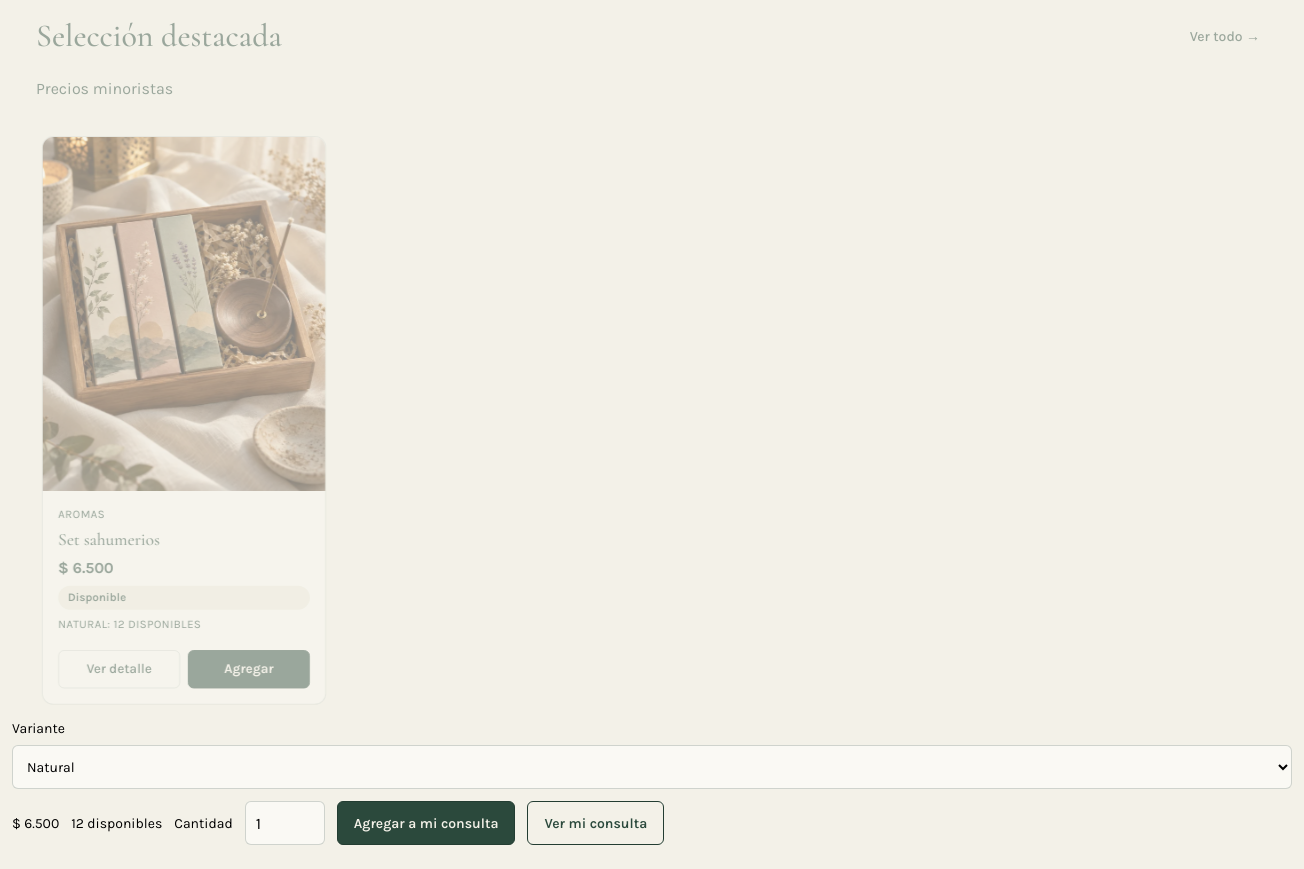
Un almacenamiento corrupto no impide agregar productos
Step 1. Click the button with aria-label "Agregar Set sahumerios a mi consulta" → click(249, 669), box 188,650 -> 310,688
(page scrolled)
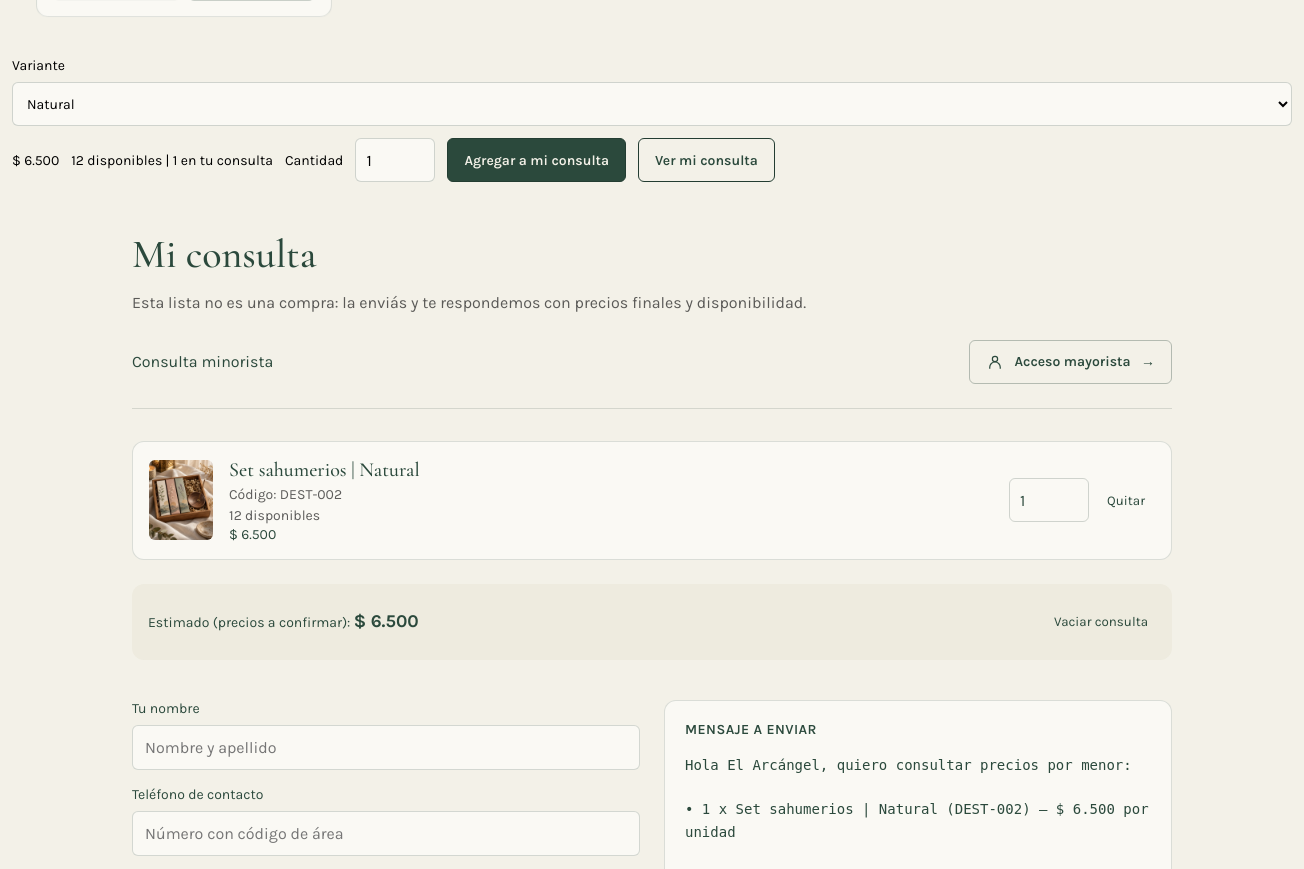
Check: the heading "Set sahumerios | Natural" is shown, box 229,458 -> 420,482
